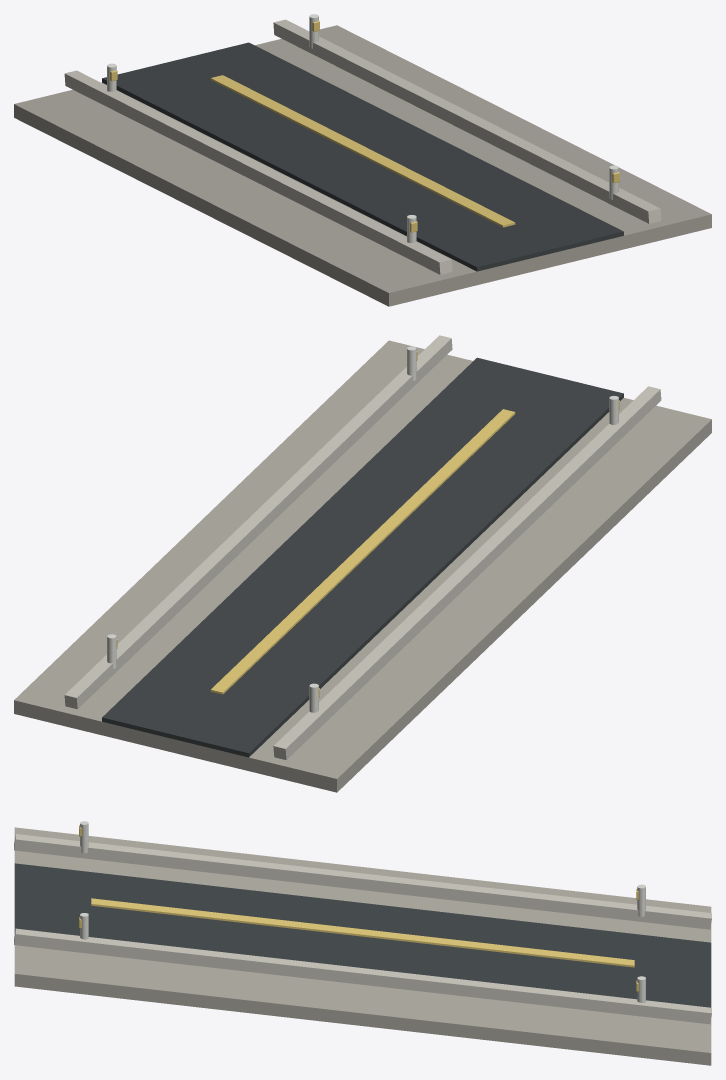
File: ROAD_LOCAL_SLOPE_1x2_DOWN_050.glb
3 renders of one model, top to bottom at view 1: azimuth 30°, elevation 25°; view 2: azimuth 150°, elevation 25°; view 3: azimuth 270°, elevation 25°, orthographic. The views are drawn at different scales.
Parts seen in each view (by area): view 1: ROAD_LOCAL_SLOPE_1x2_DOWN_050_Visual; view 2: ROAD_LOCAL_SLOPE_1x2_DOWN_050_Visual; view 3: ROAD_LOCAL_SLOPE_1x2_DOWN_050_Visual.
Boxes of the visible parts, x1,y1,x2,y2 form: ROAD_LOCAL_SLOPE_1x2_DOWN_050_Visual: (14,14,711,306); ROAD_LOCAL_SLOPE_1x2_DOWN_050_Visual: (14,335,711,792); ROAD_LOCAL_SLOPE_1x2_DOWN_050_Visual: (14,821,711,1065).
Size of what is drawn, in the model's own units: 1.98 by 0.78 by 3.99.
